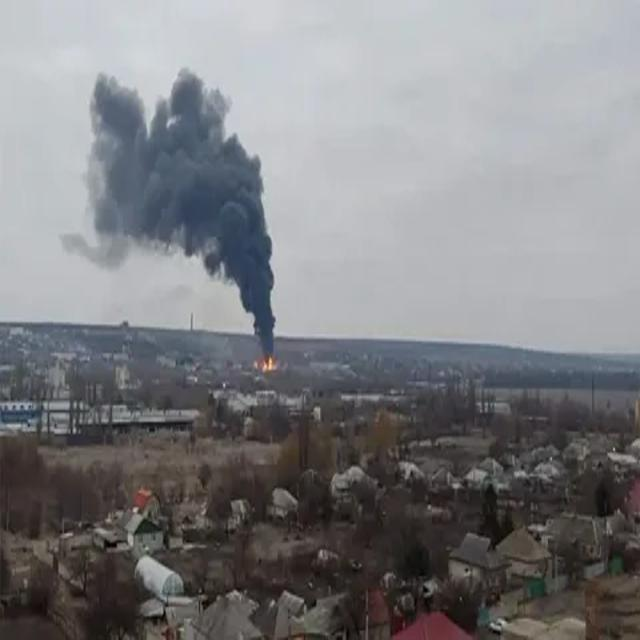Smoke: (66, 68, 300, 356)
